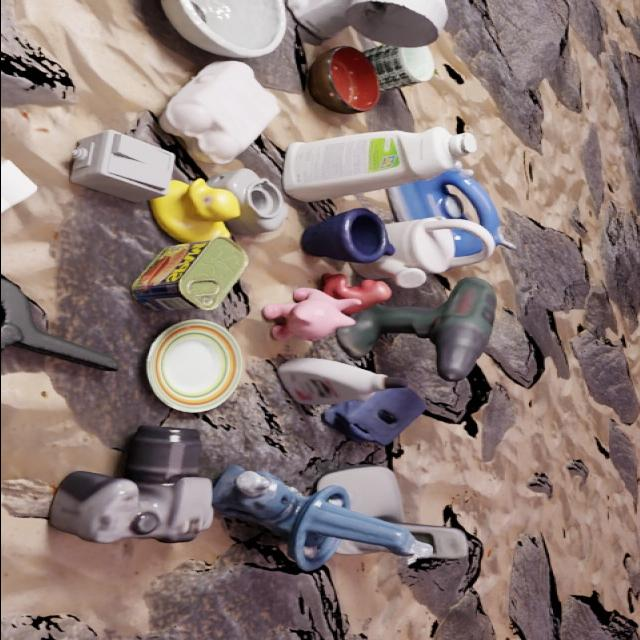Other Objects: (48, 427, 213, 544), (336, 279, 495, 382), (159, 62, 279, 165), (1, 276, 117, 370), (388, 168, 513, 249), (145, 320, 243, 413), (132, 238, 247, 310), (69, 131, 173, 202), (160, 1, 285, 58), (277, 359, 407, 405), (321, 388, 424, 445), (301, 209, 393, 263), (263, 289, 353, 341), (1, 162, 32, 211), (452, 232, 480, 257)
